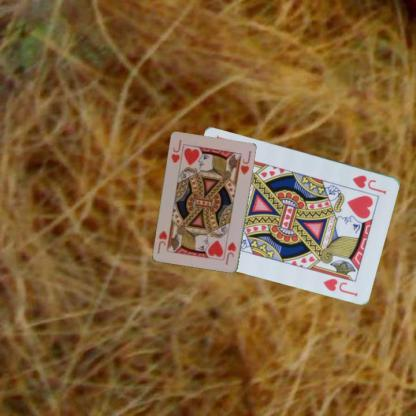Jh: (350, 172, 388, 195), (168, 137, 182, 165), (223, 240, 237, 266)
